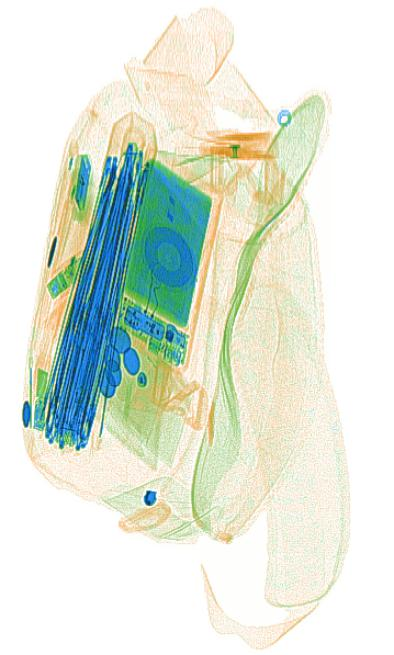USBFlashDisk: (43, 248, 94, 297), (30, 366, 49, 433), (72, 151, 94, 207)
